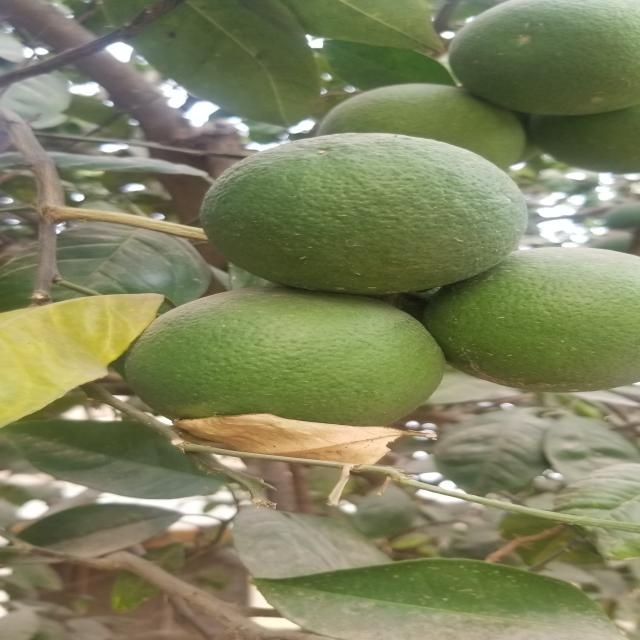agrume: (167, 130, 549, 305), (127, 295, 473, 454), (480, 232, 640, 400), (441, 2, 640, 130)
